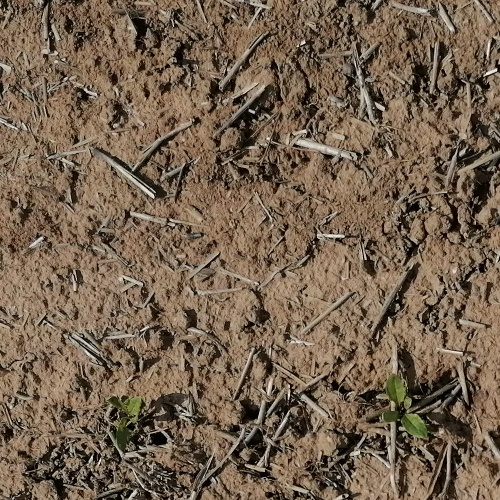beet: (381, 373, 430, 443), (106, 396, 144, 448)
